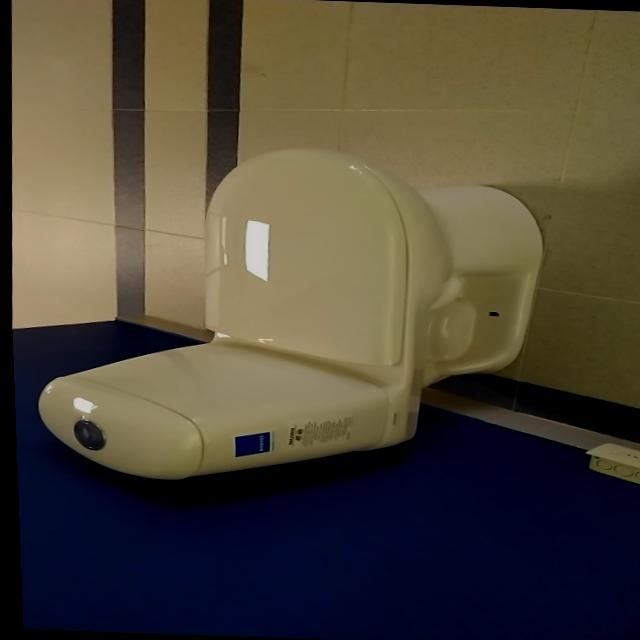toilet: (23, 137, 551, 494)
